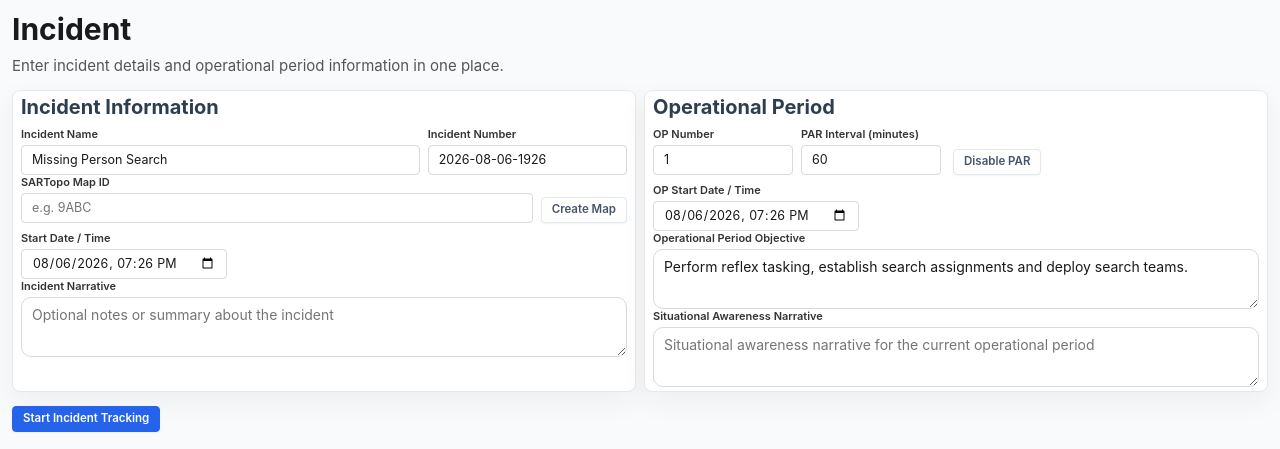
Scenario: IncidentEditPage Functional Tests › validates SARTopo Map ID length in real-time
Note: Wait for the asynchronous session initialization to complete and the form to render
Type "AB" into the field with placeholder "e.g. 9ABC" at (277, 208), box x1=21 y1=192 x2=533 y2=222
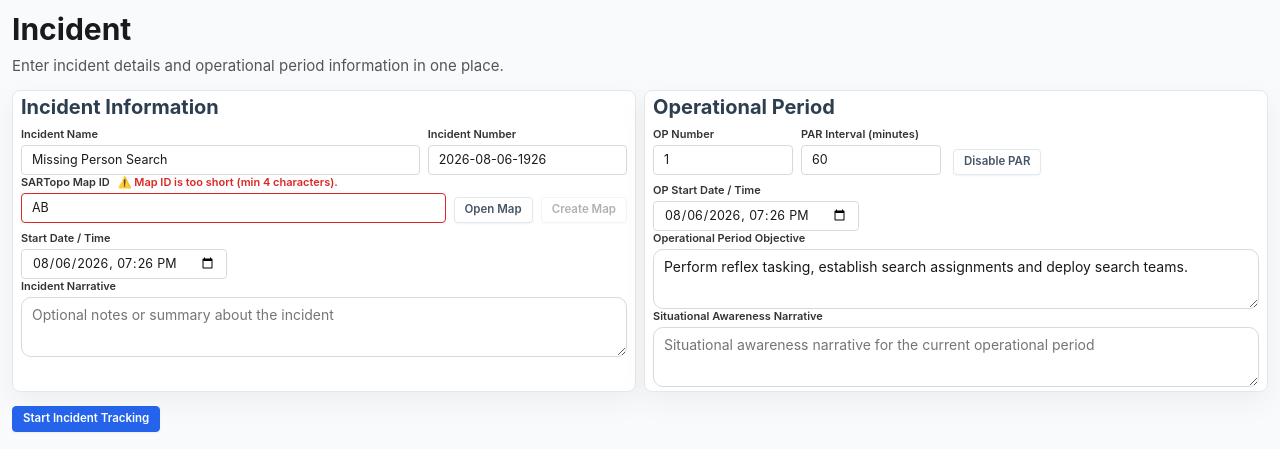
Check: the text "⚠️ Map ID is too short (min 4 characters)." is shown, box x1=118 y1=174 x2=338 y2=188
Replace the text in the field with placeholder "e.g. 9ABC" with "ABCD" at (233, 208), box x1=21 y1=192 x2=446 y2=222
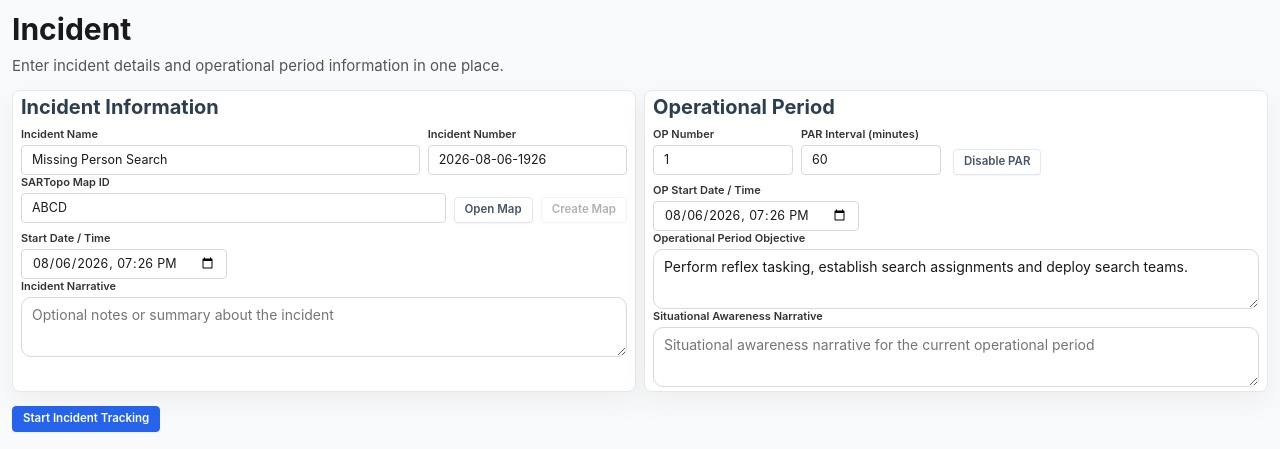
Check: the text "Map ID is too short" is gone
